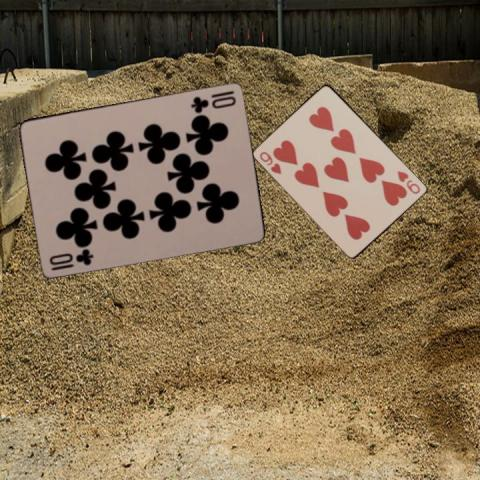10c: (187, 87, 238, 114), (46, 245, 95, 272)
9h: (395, 168, 422, 196), (257, 149, 283, 175)
